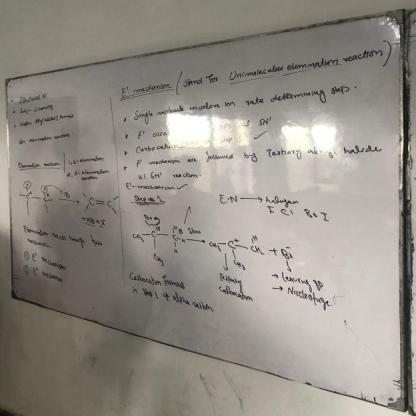Handwritten text: (128, 74, 356, 129), (179, 42, 389, 91), (147, 137, 385, 169), (18, 222, 111, 252), (277, 282, 336, 315), (13, 123, 83, 150), (124, 270, 199, 295), (209, 269, 260, 305), (12, 108, 82, 132), (274, 269, 333, 297), (12, 95, 62, 119), (12, 87, 58, 106), (18, 236, 59, 254)
Whiteboard: (6, 9, 406, 412)
